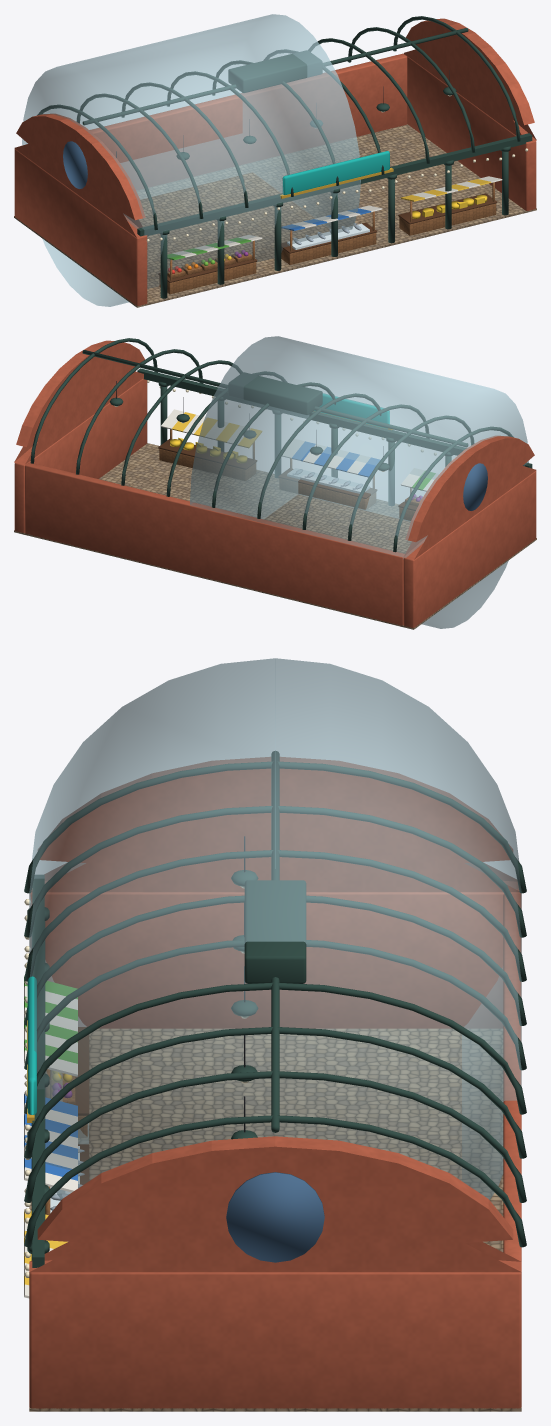
File: market_hall.gltf
The picture shows the model from 3 angles, top to bottom: view 1: azimuth 30°, elevation 25°; view 2: azimuth 150°, elevation 25°; view 3: azimuth 270°, elevation 25°; orthographic projection. The views are drawn at different scales.
Visible parts, largest first — view 1: market_hall_mesh, INT_counter_cheese, INT_counter_veg, INT_counter_fish; view 2: market_hall_mesh, INT_counter_cheese, INT_counter_fish; view 3: market_hall_mesh, INT_counter_veg.
Part boxes in pixels (x1,y1,x2,y2): market_hall_mesh: [14, 14, 536, 307]; INT_counter_cheese: [398, 193, 497, 224]; INT_counter_veg: [158, 255, 257, 282]; INT_counter_fish: [281, 222, 377, 253]; market_hall_mesh: [14, 336, 536, 629]; INT_counter_cheese: [158, 439, 256, 469]; INT_counter_fish: [278, 468, 376, 498]; market_hall_mesh: [24, 658, 526, 1411]; INT_counter_veg: [75, 1027, 89, 1115].
Size of what is drawn, in the model's own units: 30.14 by 16 by 16.34.
23 materials, 3 textured.
